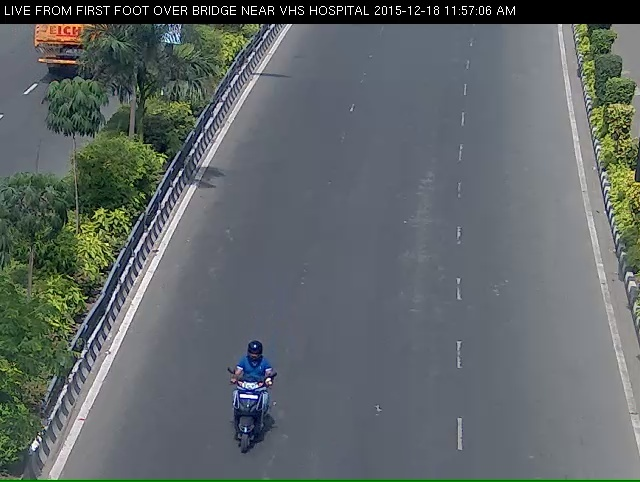Person: (208, 401, 255, 476)
